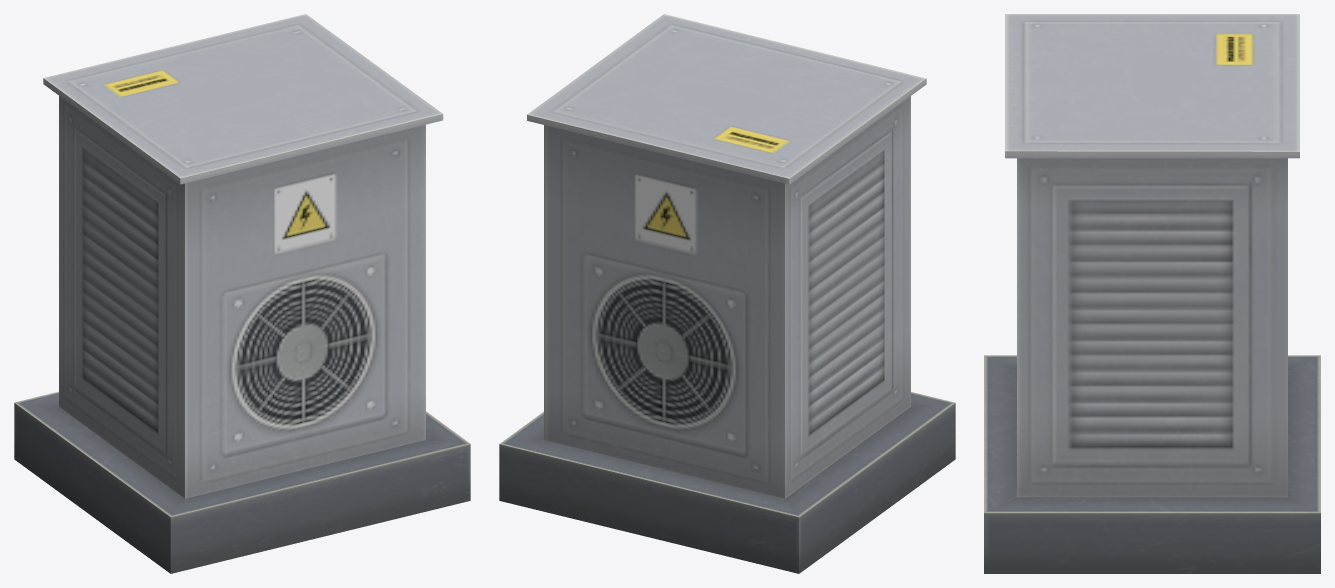
Rendered from Electr_box_05.fbx.
3 views of the same model, side by side, from view 1: azimuth 30°, elevation 25°; view 2: azimuth 150°, elevation 25°; view 3: azimuth 270°, elevation 25° (orthographic). The views are drawn at different scales.
Visible parts, largest first — view 1: air_conditioner_6_Mesh; view 2: air_conditioner_6_Mesh; view 3: air_conditioner_6_Mesh.
Boxes of the visible parts, <box> form: air_conditioner_6_Mesh: <box>14,14,470,573</box>; air_conditioner_6_Mesh: <box>499,14,955,573</box>; air_conditioner_6_Mesh: <box>984,14,1320,573</box>.
Bounding box in the file's own units: 95.45 × 117 × 86.31.
